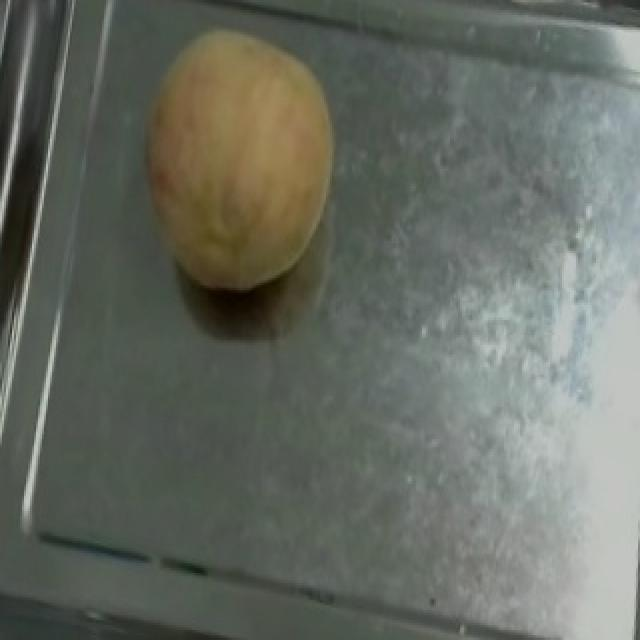Fruit: (108, 7, 358, 315)
